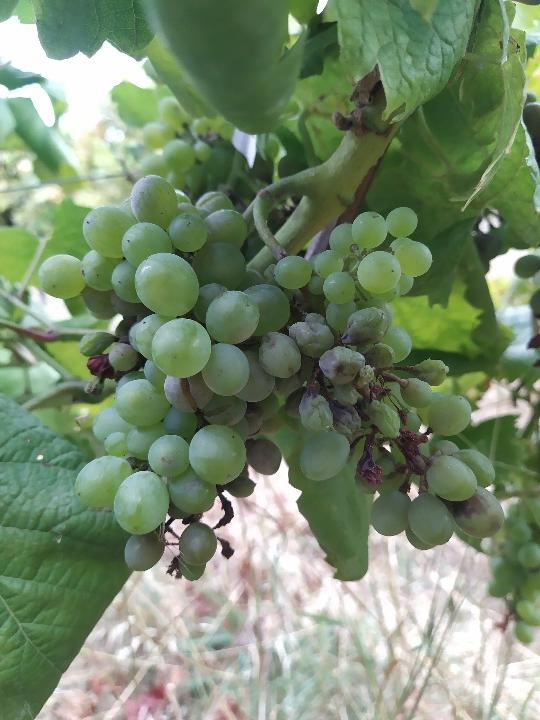grape: (36, 173, 510, 586)
